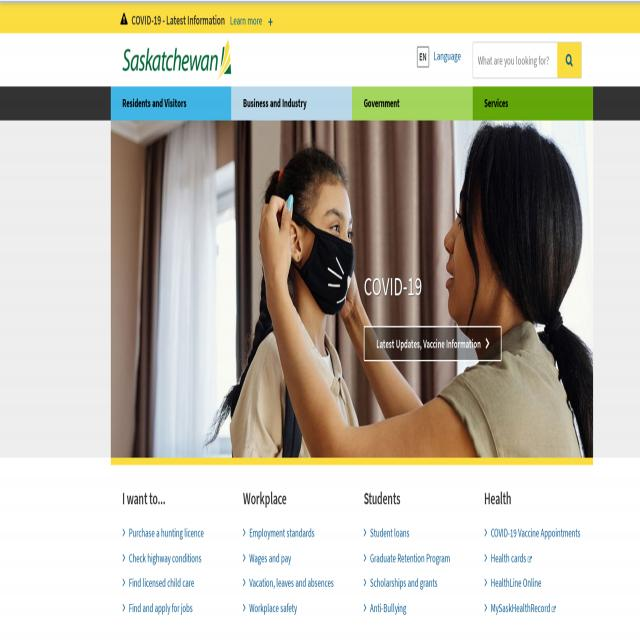button: (364, 326, 501, 361), (122, 36, 232, 77), (352, 86, 472, 120), (111, 87, 231, 121), (231, 87, 351, 121), (473, 88, 593, 120), (414, 40, 469, 74), (557, 44, 582, 78)
field: (472, 43, 556, 78)
